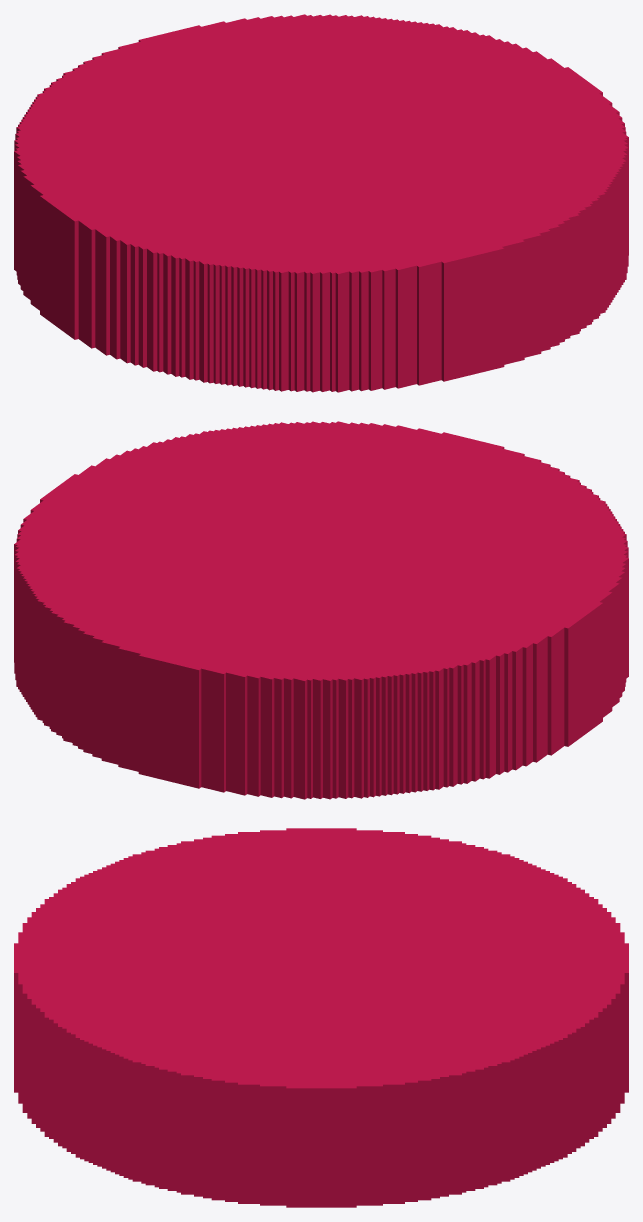
File: base_with_flag_elements-2.obj
3 views of the same model, one above another, from view 1: azimuth 30°, elevation 25°; view 2: azimuth 150°, elevation 25°; view 3: azimuth 270°, elevation 25° (orthographic).
Size of the model in its own units: 14 by 3 by 14.
Materials: 1 (1 with a texture image).
